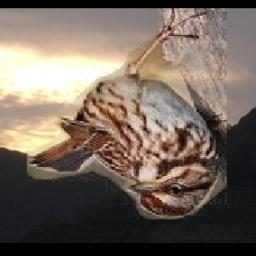Sparrow: (27, 8, 227, 219)
